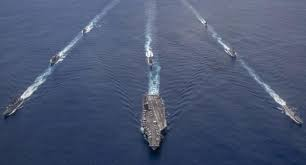tau_muctieu: (142, 89, 166, 151), (280, 98, 305, 127), (4, 90, 25, 118), (140, 39, 157, 72), (217, 40, 240, 61), (80, 19, 99, 41), (48, 43, 64, 67)
